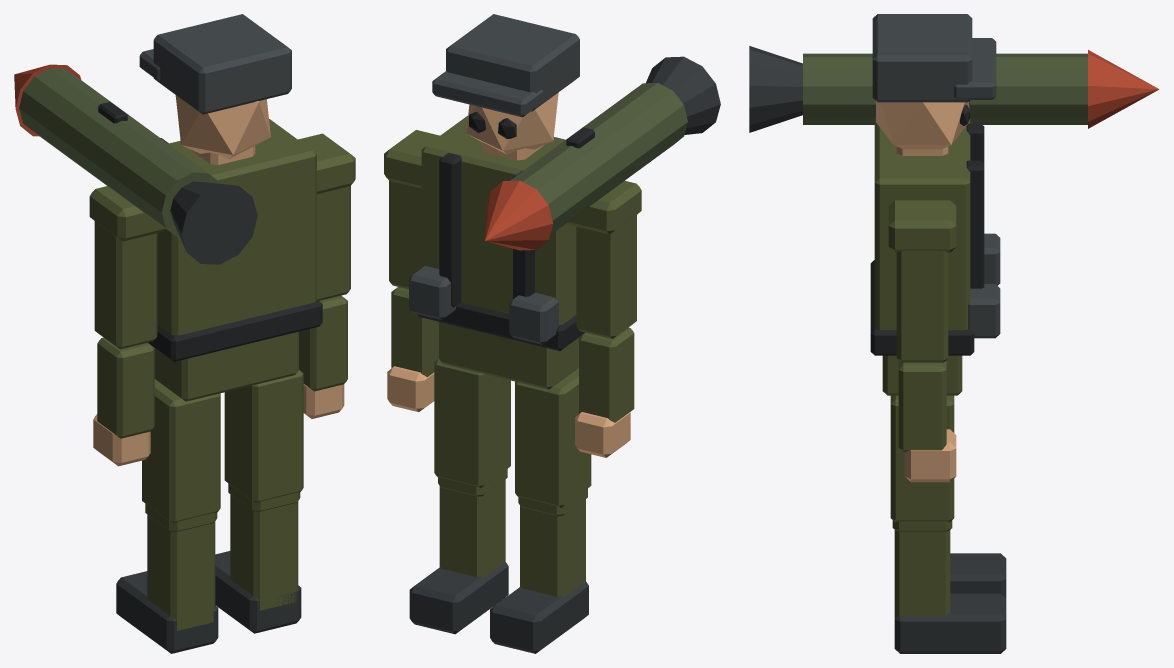
The model's file is soldier_rocket.glb.
3 renders of one model, left to right at view 1: azimuth 30°, elevation 25°; view 2: azimuth 150°, elevation 25°; view 3: azimuth 270°, elevation 25°, orthographic. The views are drawn at different scales.
Parts seen in each view (by area): view 1: soldier_rocket; view 2: soldier_rocket; view 3: soldier_rocket.
Boxes of the visible parts, <box> form: soldier_rocket: <box>14,14,355,653</box>; soldier_rocket: <box>384,14,720,653</box>; soldier_rocket: <box>749,14,1159,653</box>.
Bounding box in the file's own units: 0.3575 × 0.8153 × 0.5151.
1 material, 1 textured.
